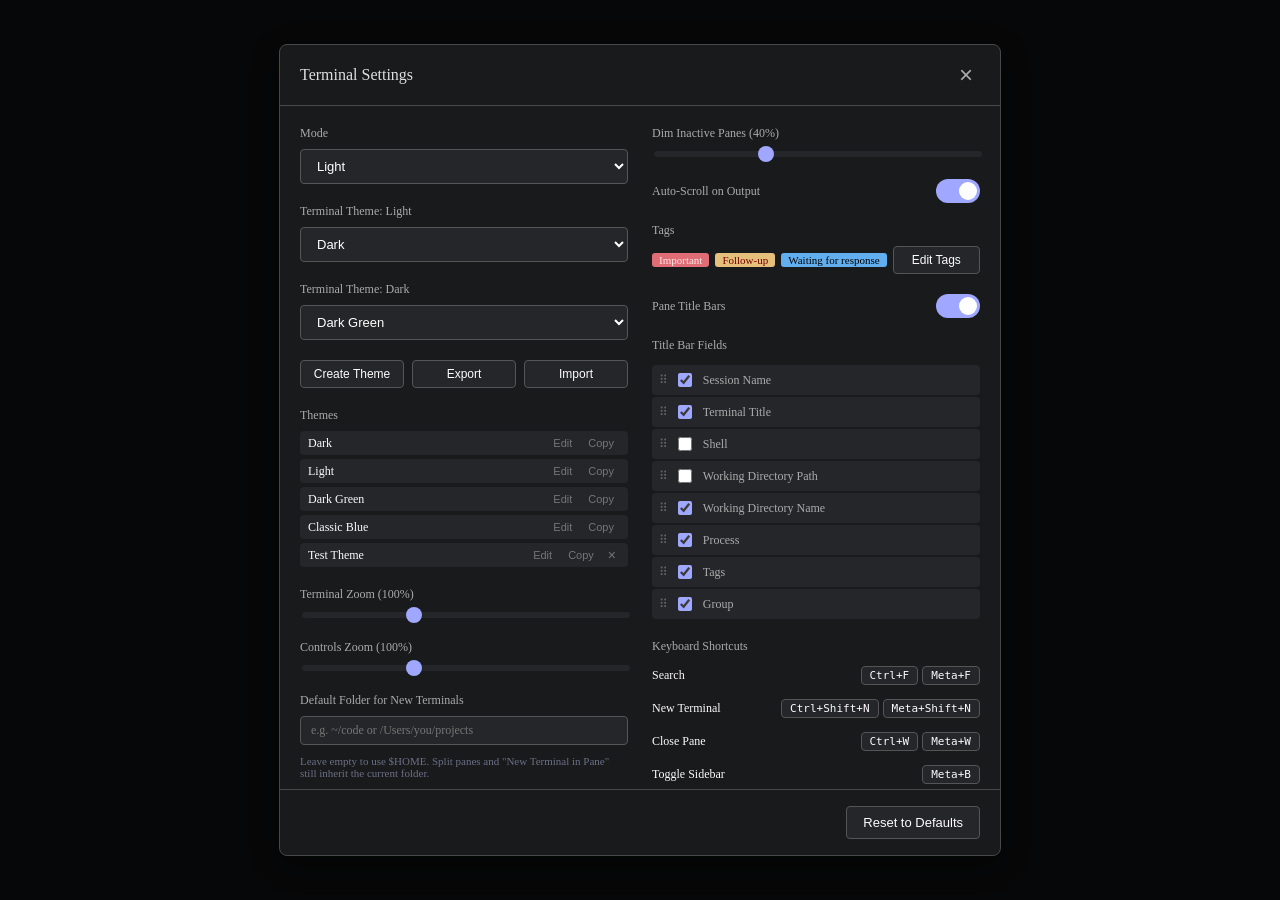
it: SettingsPanel - Settings Controls › shows Edit button for grouped custom themes
Click Edit should open ThemeEditor in edit mode
Click the button "Edit" in the row of "Test Theme". click: coordinates (543, 555)
box: [527, 547, 558, 563]
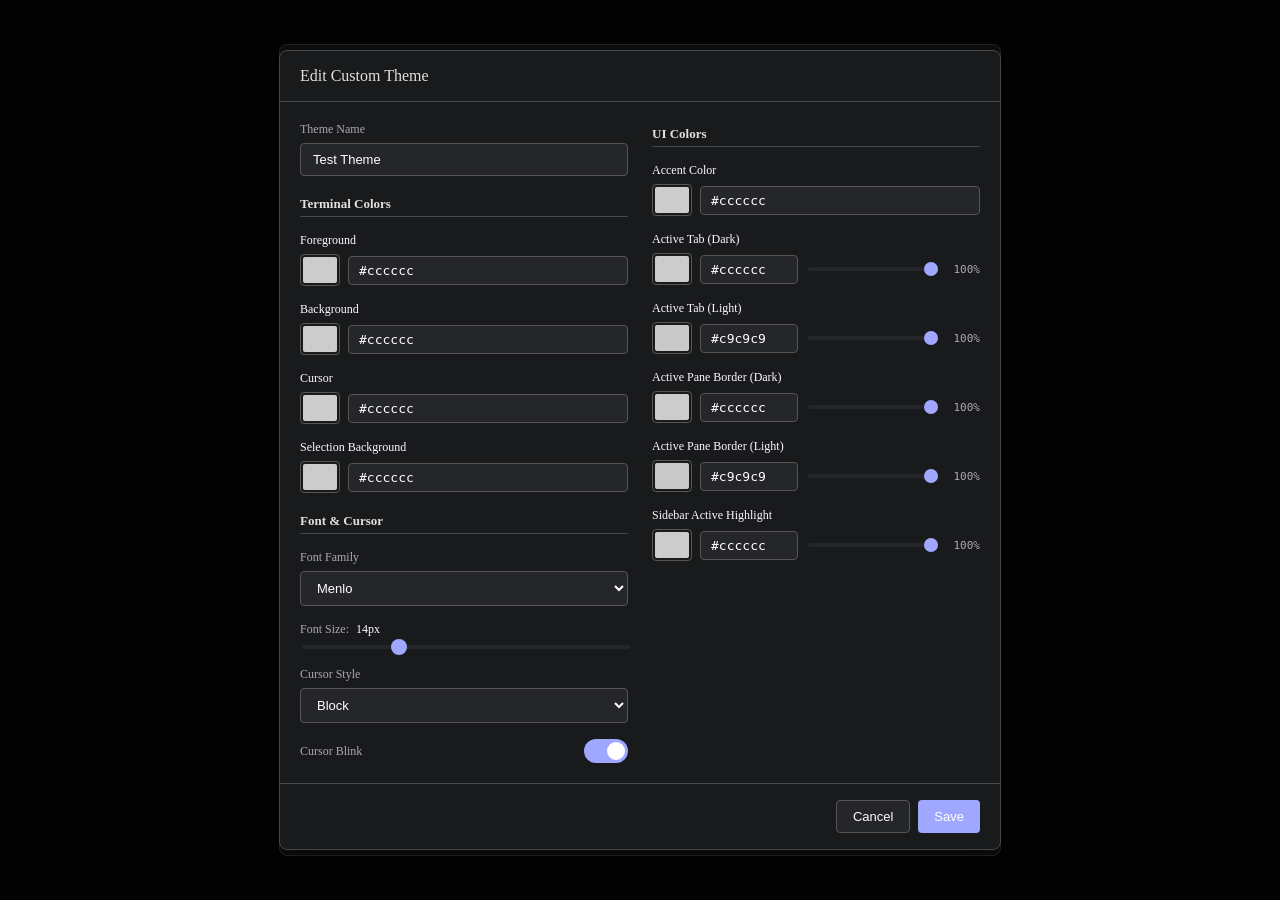
Result: the heading "Edit Custom Theme" is shown at [300, 67, 429, 84]
